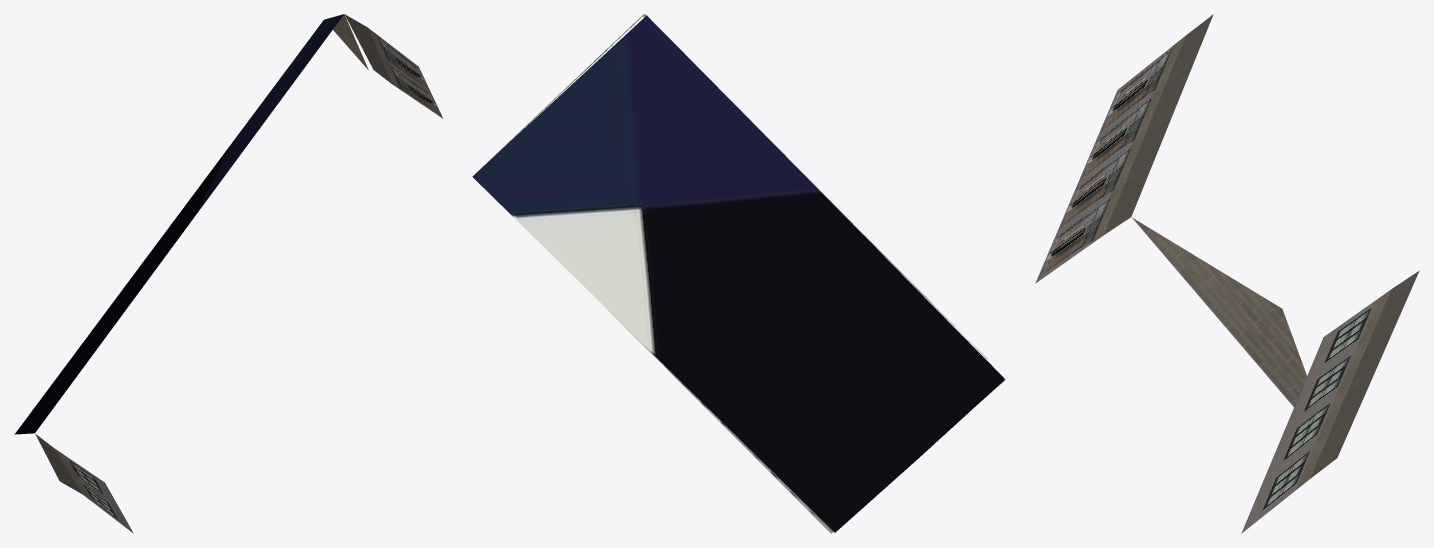
File: tile_LOD8_r2_c1.glb
The picture shows the model from 3 angles, left to right: view 1: azimuth 30°, elevation 25°; view 2: azimuth 150°, elevation 25°; view 3: azimuth 270°, elevation 25°; orthographic projection. The views are drawn at different scales.
Size of the model in its own units: 27.5 by 26.25 by 14.
5 materials, 5 textured.
